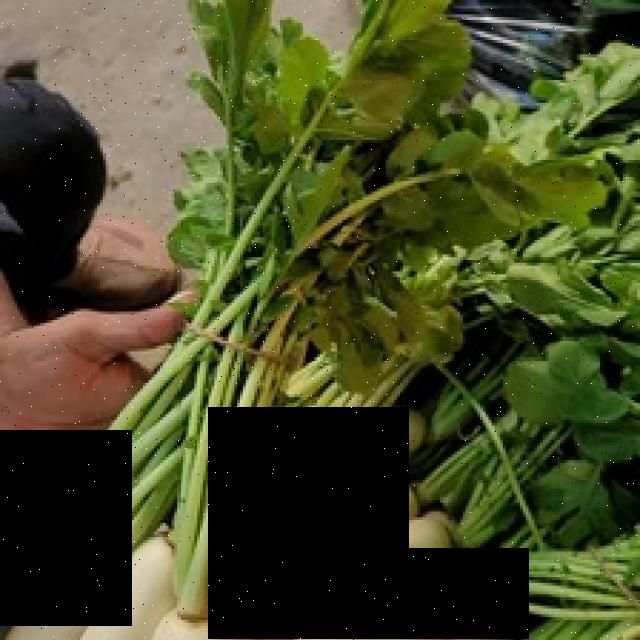Radish: (208, 407, 409, 640), (0, 430, 132, 626), (382, 548, 529, 640)
